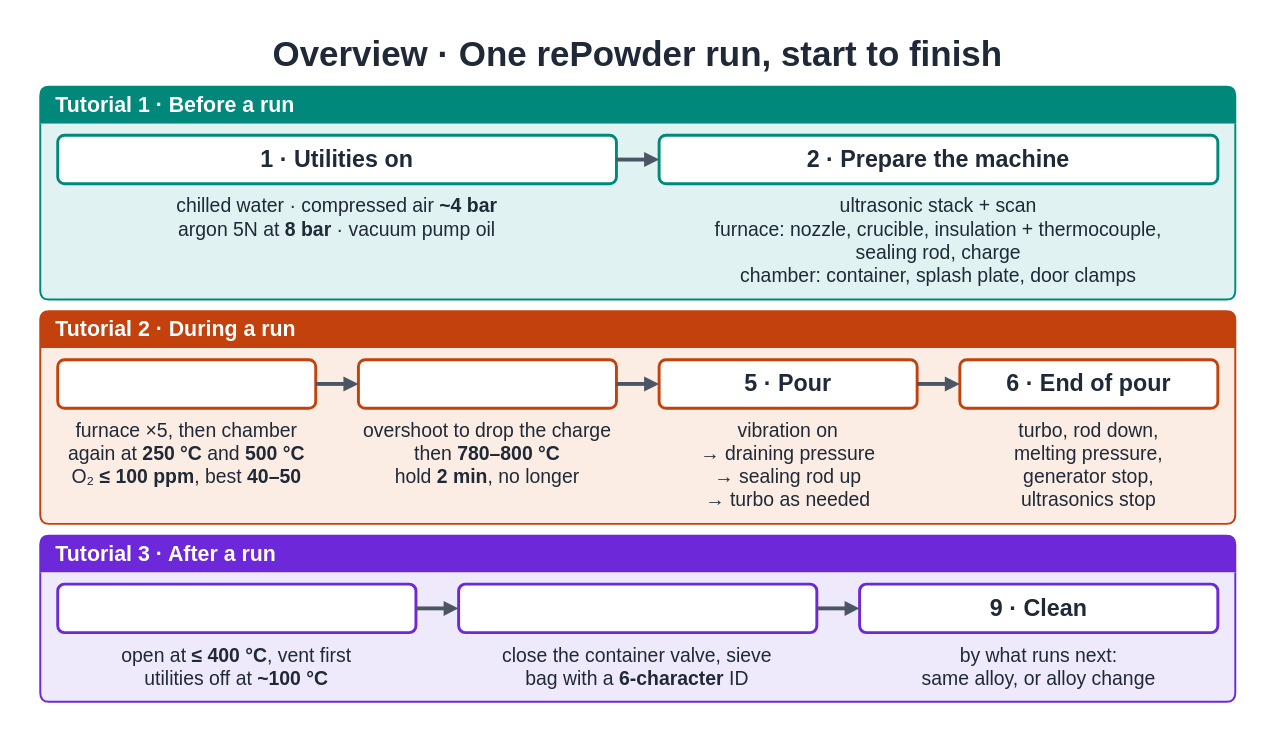
The diagram is 1275 pixels wide and 731 high, and some of its shapes have lost their labels. The shapes that lost their labels are listed below. From the top down, each one's centre as x and y in pixels, then its label:
At [186,383]: "3 · Gas wash".
At [486,383]: "4 · Melt".
At [236,608]: "7 · Cool down".
At [637,608]: "8 · Collect powder".
